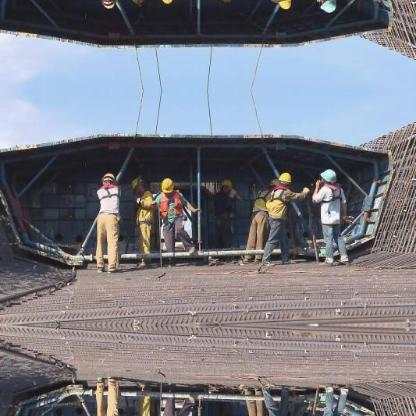Helmet: (158, 174, 176, 192), (318, 166, 336, 184), (101, 168, 115, 186), (318, 0, 336, 12), (276, 170, 290, 184), (101, 0, 116, 10), (220, 177, 232, 189), (275, 0, 291, 9), (158, 0, 176, 4), (219, 0, 232, 2)
